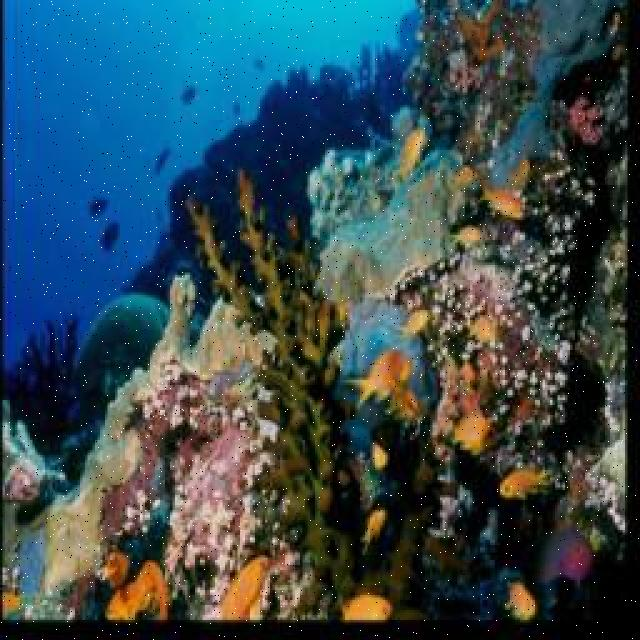fish: (340, 350, 414, 414), (499, 468, 552, 501), (482, 183, 525, 219), (340, 594, 392, 619)
reefs: (185, 168, 357, 617)
